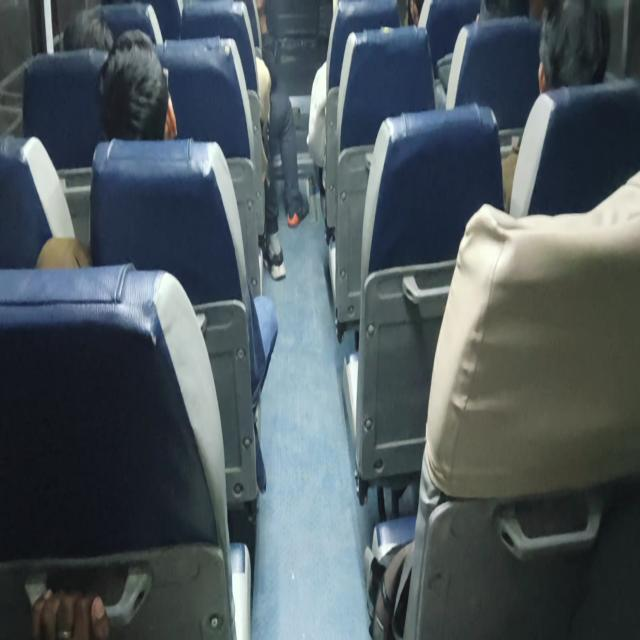person: (35, 28, 278, 493), (36, 28, 178, 268), (501, 0, 612, 211), (250, 1, 309, 280), (96, 28, 177, 141), (537, 0, 611, 94), (30, 586, 110, 638)
